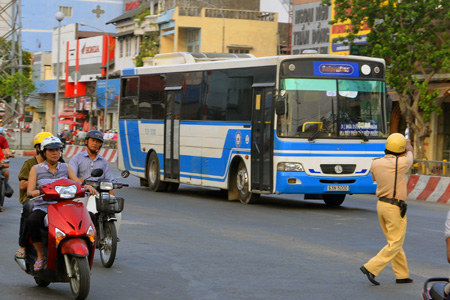police: (349, 131, 426, 288)
